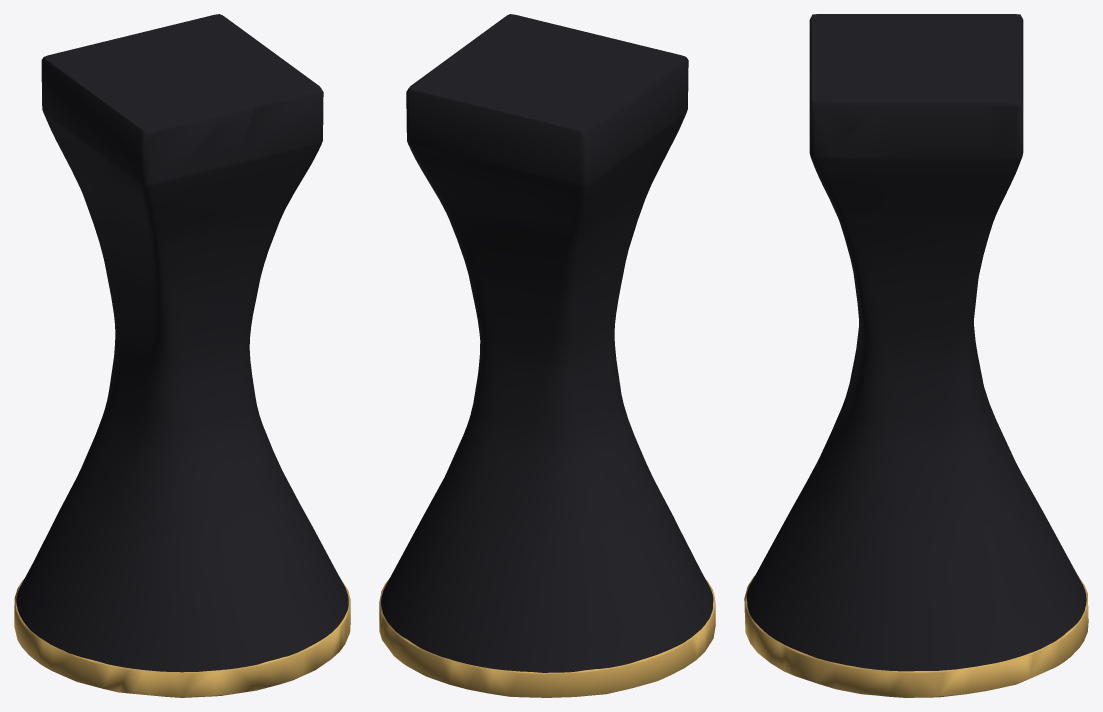
Rendered from 02_vez_cerna.glb.
3 views of the same model, side by side, from view 1: azimuth 30°, elevation 25°; view 2: azimuth 150°, elevation 25°; view 3: azimuth 270°, elevation 25° (orthographic). The views are drawn at different scales.
Visible parts, largest first — view 1: 02_vez_telo_0, 02_vez_podstavec; view 2: 02_vez_telo_0, 02_vez_podstavec; view 3: 02_vez_telo_0, 02_vez_podstavec.
Part boxes in pixels (x1,y1,x2,y2): 02_vez_telo_0: (16,14,348,672); 02_vez_podstavec: (14,578,350,697); 02_vez_telo_0: (381,14,713,672); 02_vez_podstavec: (379,579,715,697); 02_vez_telo_0: (746,14,1086,671); 02_vez_podstavec: (744,576,1088,697).
Size of the model in its own units: 0.044 by 0.08 by 0.044.
